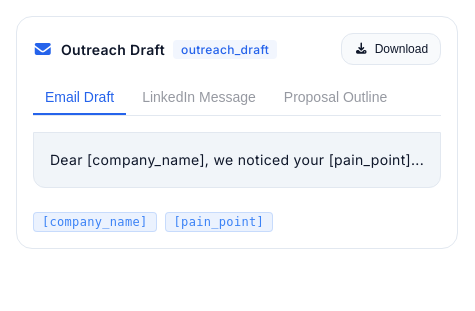
Test: ArtifactViewer › outreach_draft › switches tab content when a different tab is clicked
Click the tab "LinkedIn Message".
click(199, 98)  # box left=130, top=81, right=268, bottom=115
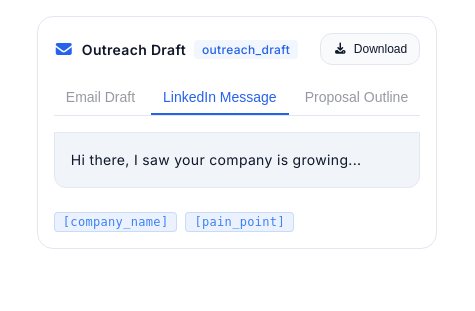
Check: the panel reads "Hi there, I saw your company is growing...", box left=71, top=151, right=361, bottom=168
Click the tab "Proposal Outline".
click(356, 98)  # box left=293, top=81, right=420, bottom=115
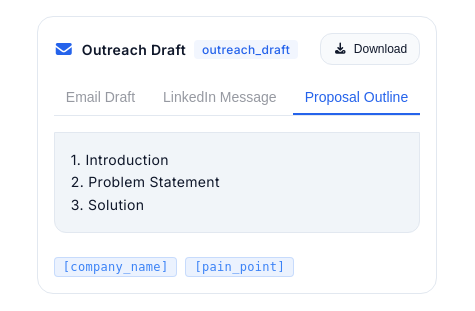
Check: the panel shows "1. Introduction", box left=71, top=151, right=220, bottom=213
